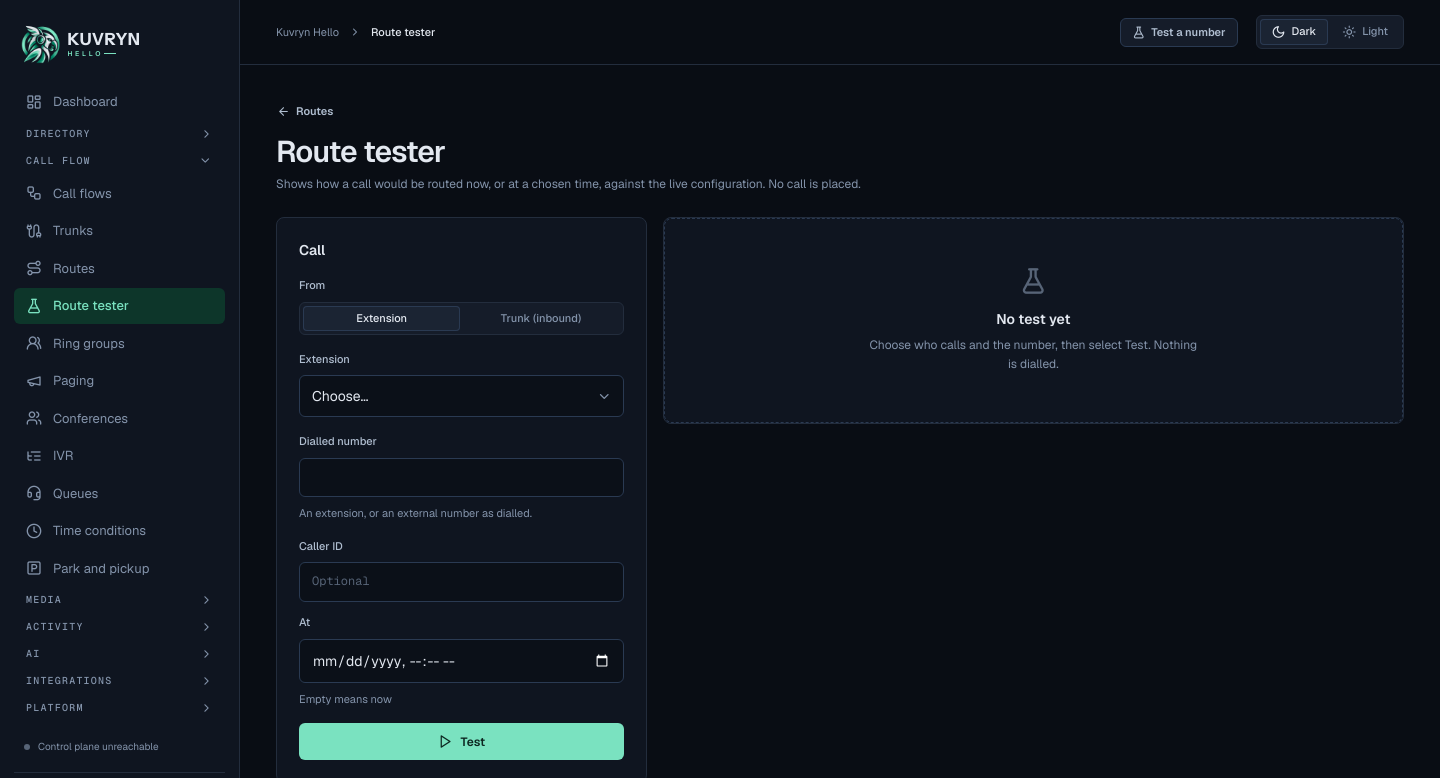
RouteTest › tests a number from an extension and shows the decision and trace in order
The width and height of the screenshot is (1440, 778).
Expected: the heading "No test yet" is shown, [996,309,1070,330]
Select "101 · Desk" in the dropdown labelled "Extension" at (461, 396), box [299,375,624,417]
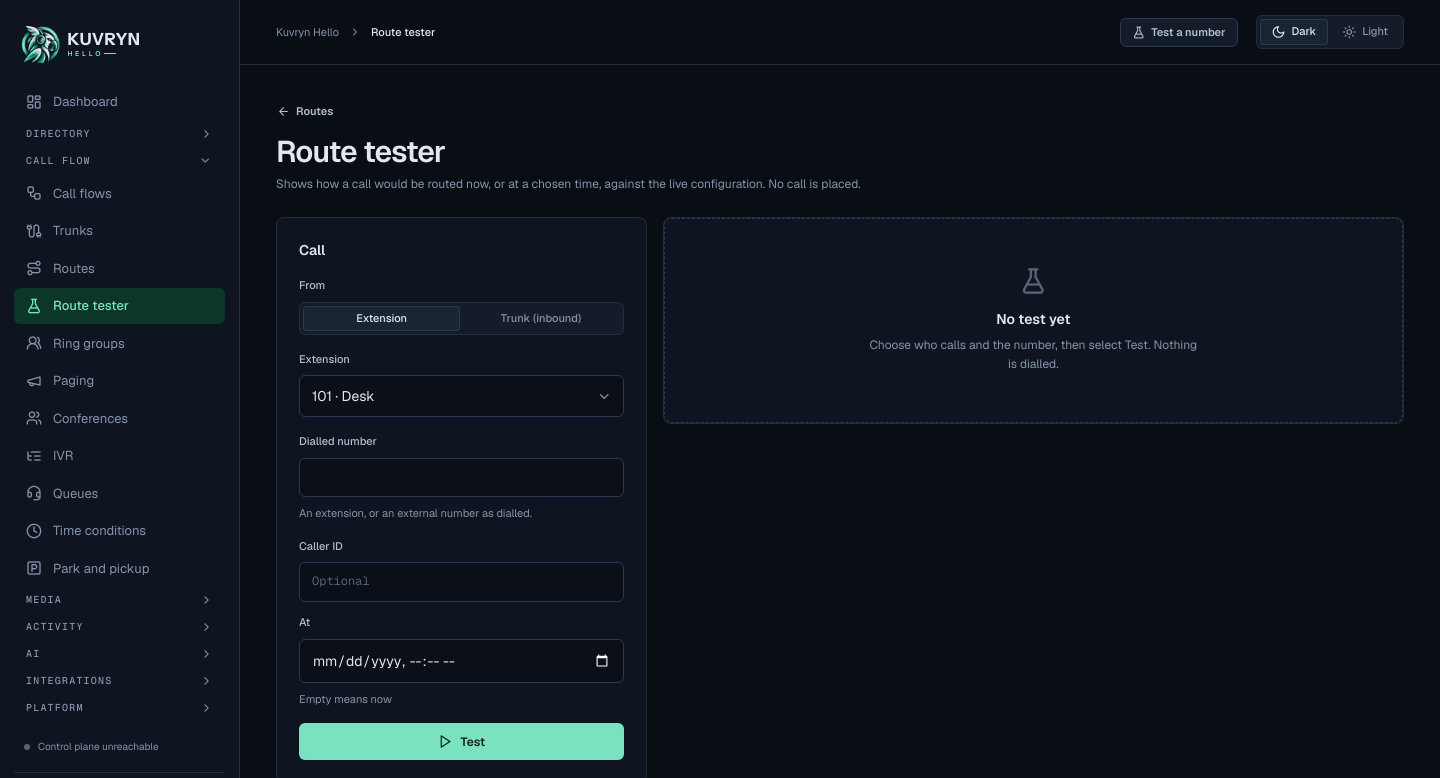
Type "0501234567" into the field labelled "Dialled number".
click(461, 478); type("0501234567")  # box [299,458,624,498]
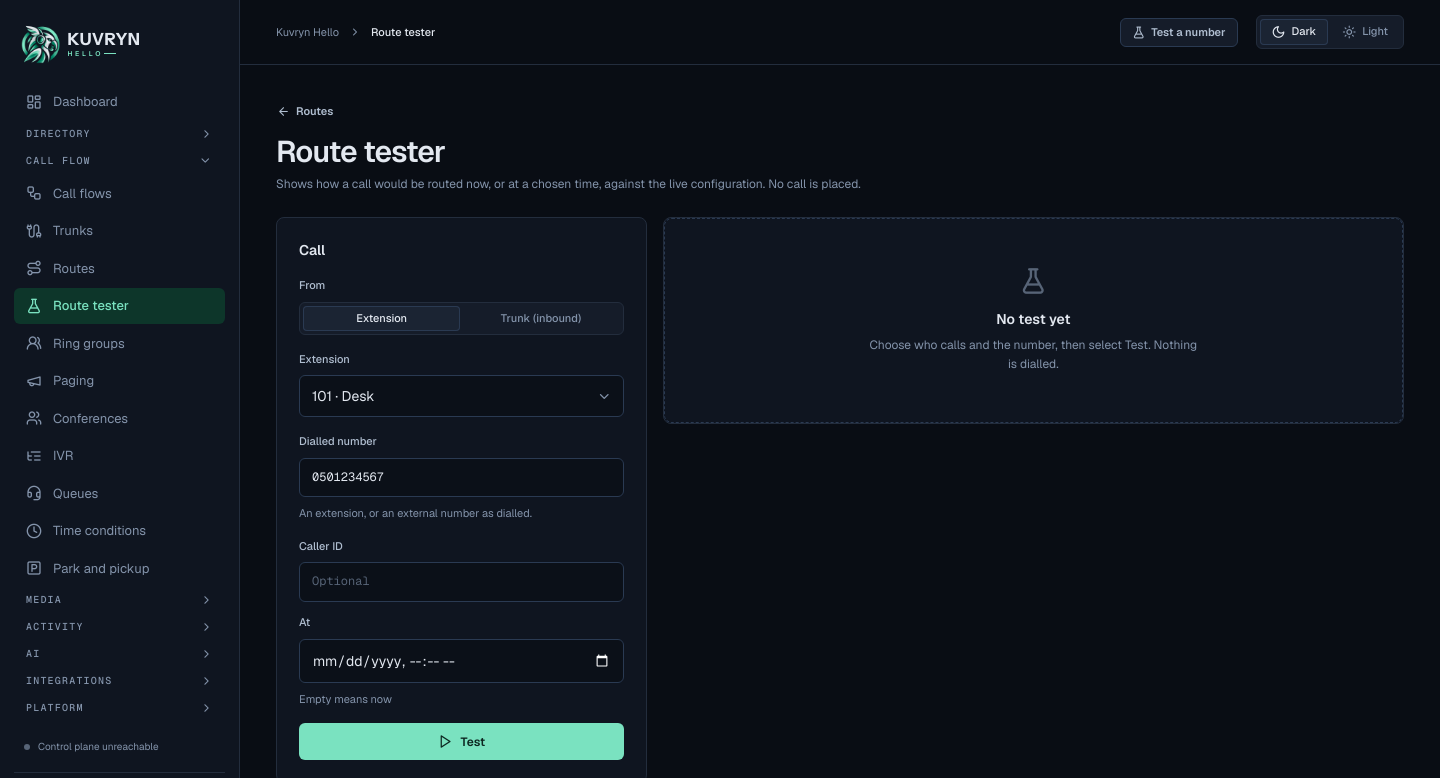
Type "2026-10-04T09:30" into the field labelled "At".
click(461, 661); type("2026-10-04T09:30")  # box [299,639,624,683]
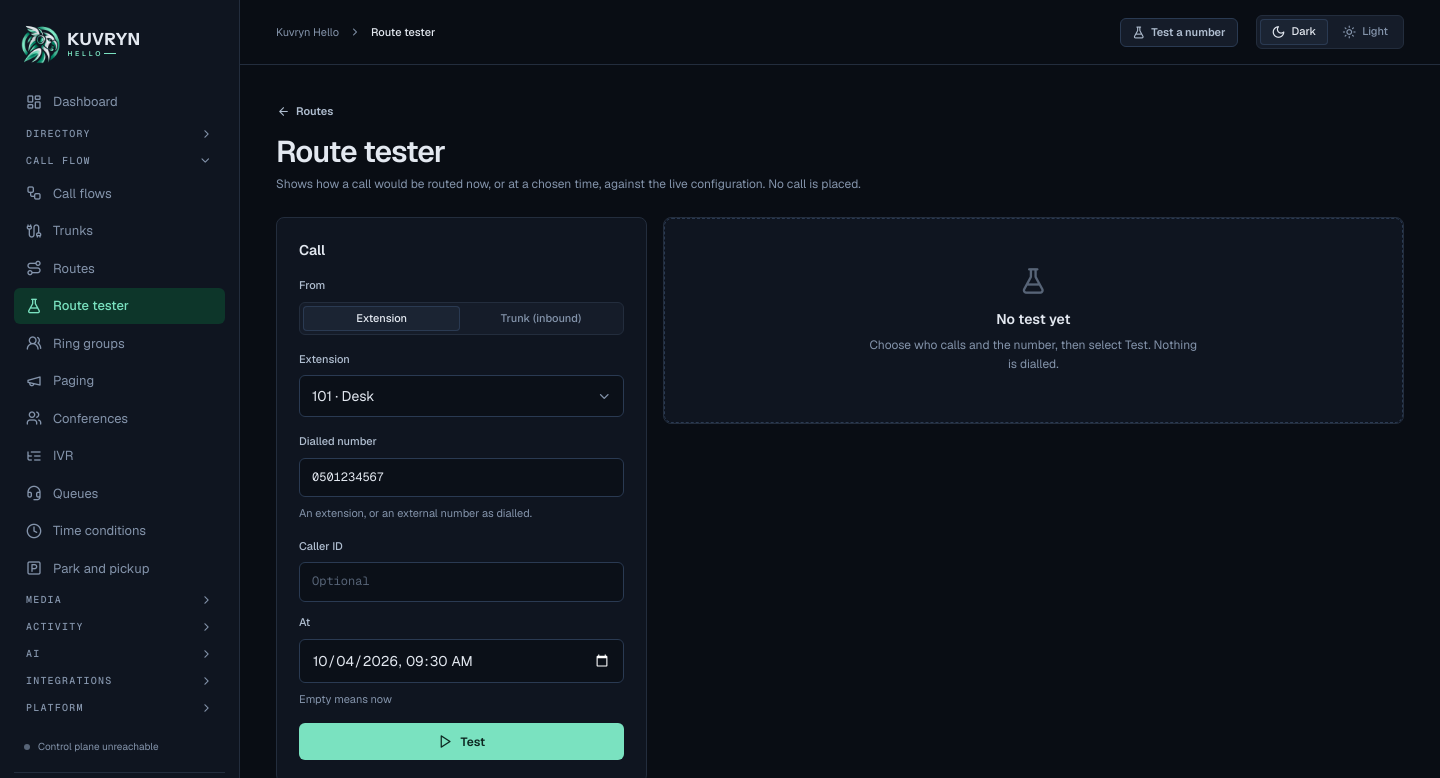
Click the button "Test".
click(461, 742)  # box [299,723,624,760]
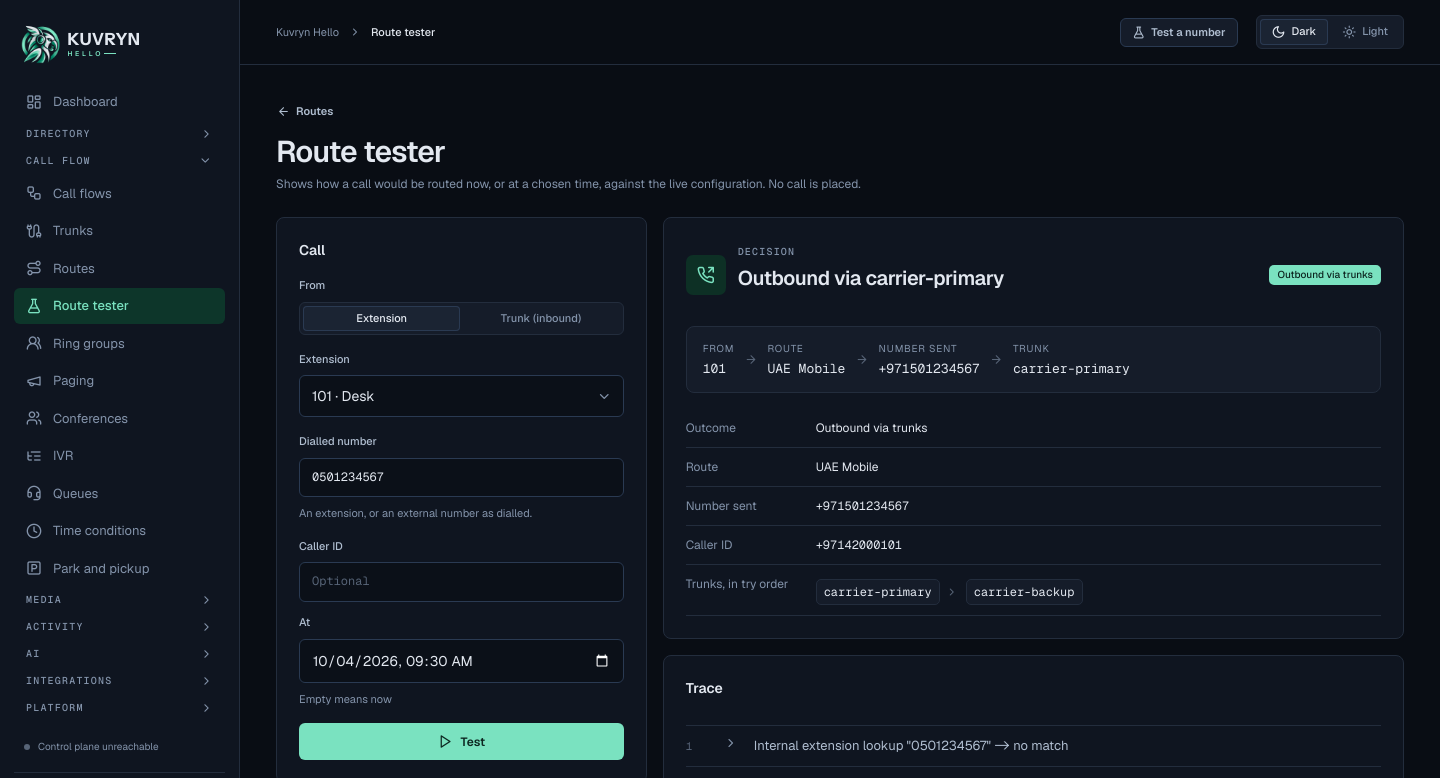
Expected: the heading "Outbound via carrier-primary" is shown, [738,263,1004,293]
Expected: the text "Outbound via trunks" next to "Outcome" is shown, [816,420,928,436]
Expected: the text "UAE Mobile" below "Outcome" is shown, [816,459,879,475]
